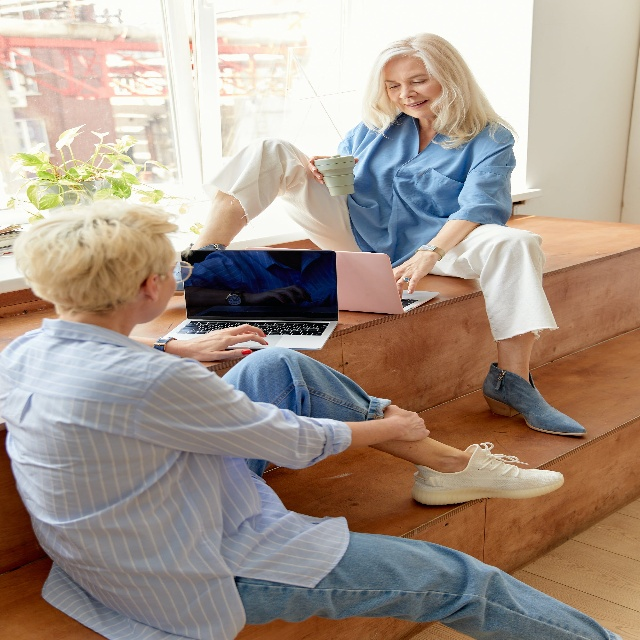Gafas: (139, 258, 194, 289)
Sin_guantes: (183, 324, 268, 364), (391, 249, 441, 298), (381, 404, 430, 442), (307, 152, 360, 186)
